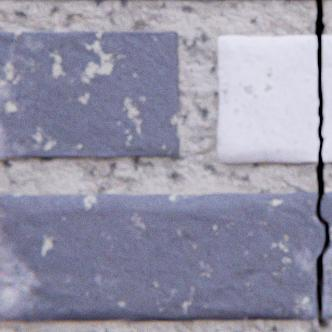brick: (0, 30, 180, 157)
broken_brick: (0, 190, 324, 321), (218, 36, 318, 162), (321, 191, 331, 317), (322, 36, 331, 161)
crack: (314, 0, 330, 331)
